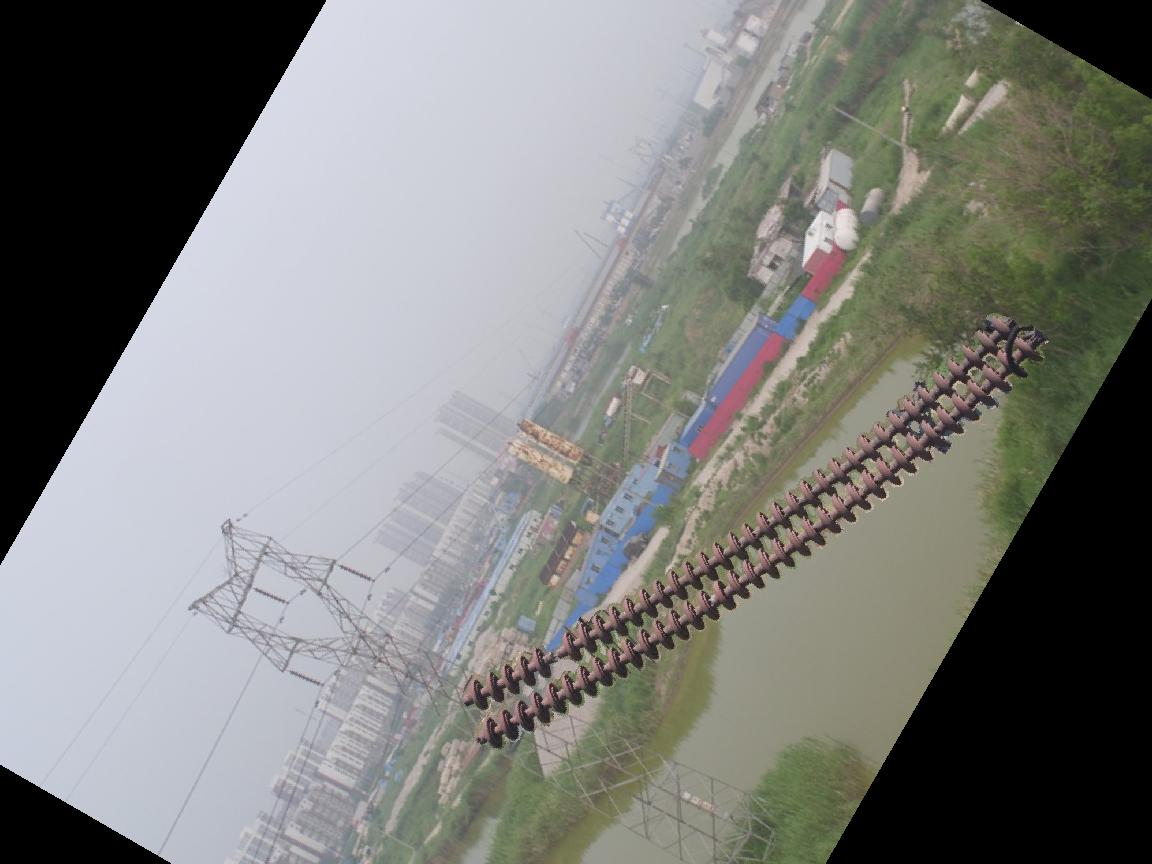insulator: (459, 309, 1048, 755), (286, 666, 324, 690), (249, 584, 288, 607), (336, 561, 374, 583)
insulator_stringdrop: (531, 630, 585, 681)
